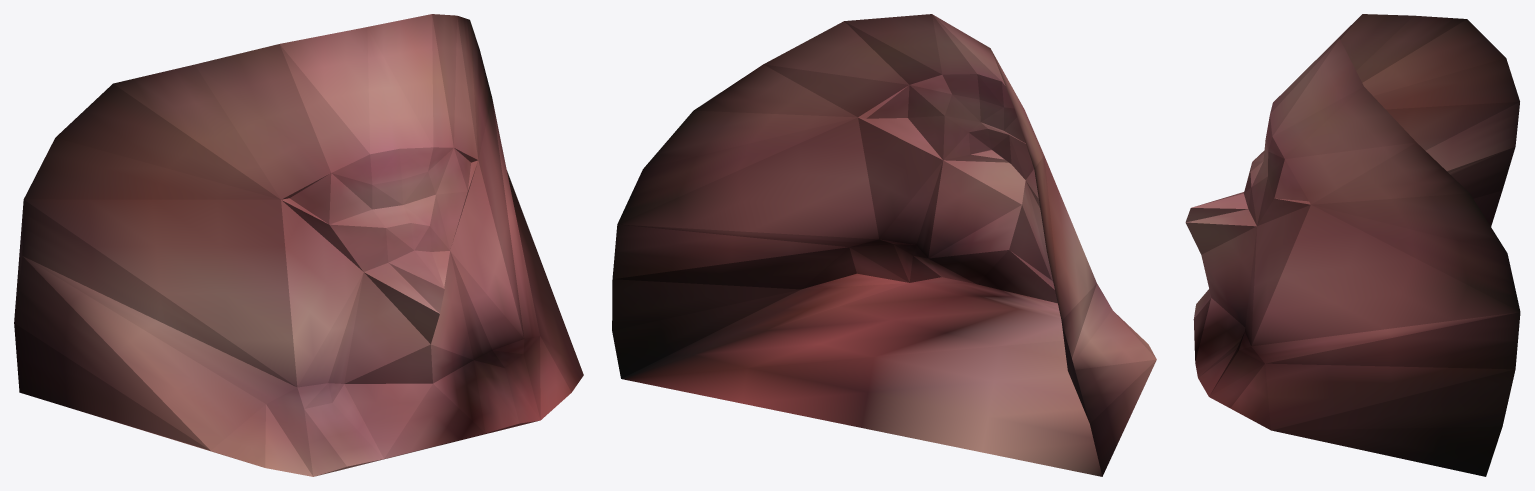
File: fake_19472.obj
3 views of the same model, side by side, from view 1: azimuth 30°, elevation 25°; view 2: azimuth 150°, elevation 25°; view 3: azimuth 270°, elevation 25° (orthographic). The views are drawn at different scales.
Size of the model in its own units: 129 by 93 by 84.44.
